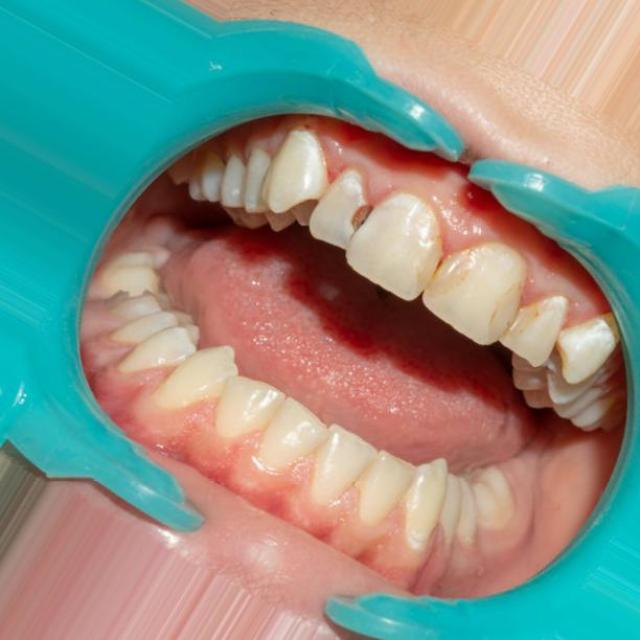caries: (415, 232, 487, 307), (485, 274, 549, 340), (337, 185, 391, 249)
